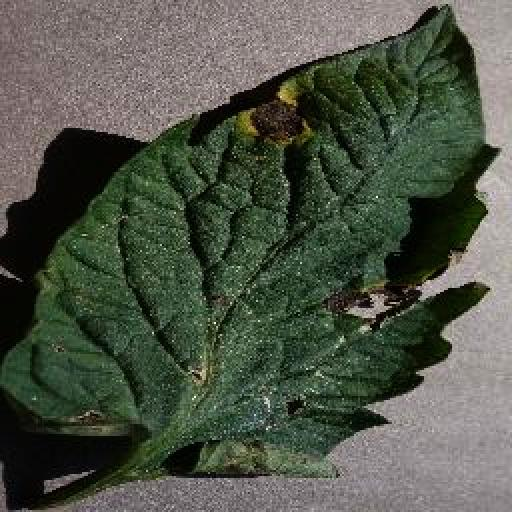disease_tomato: (0, 4, 501, 484)
